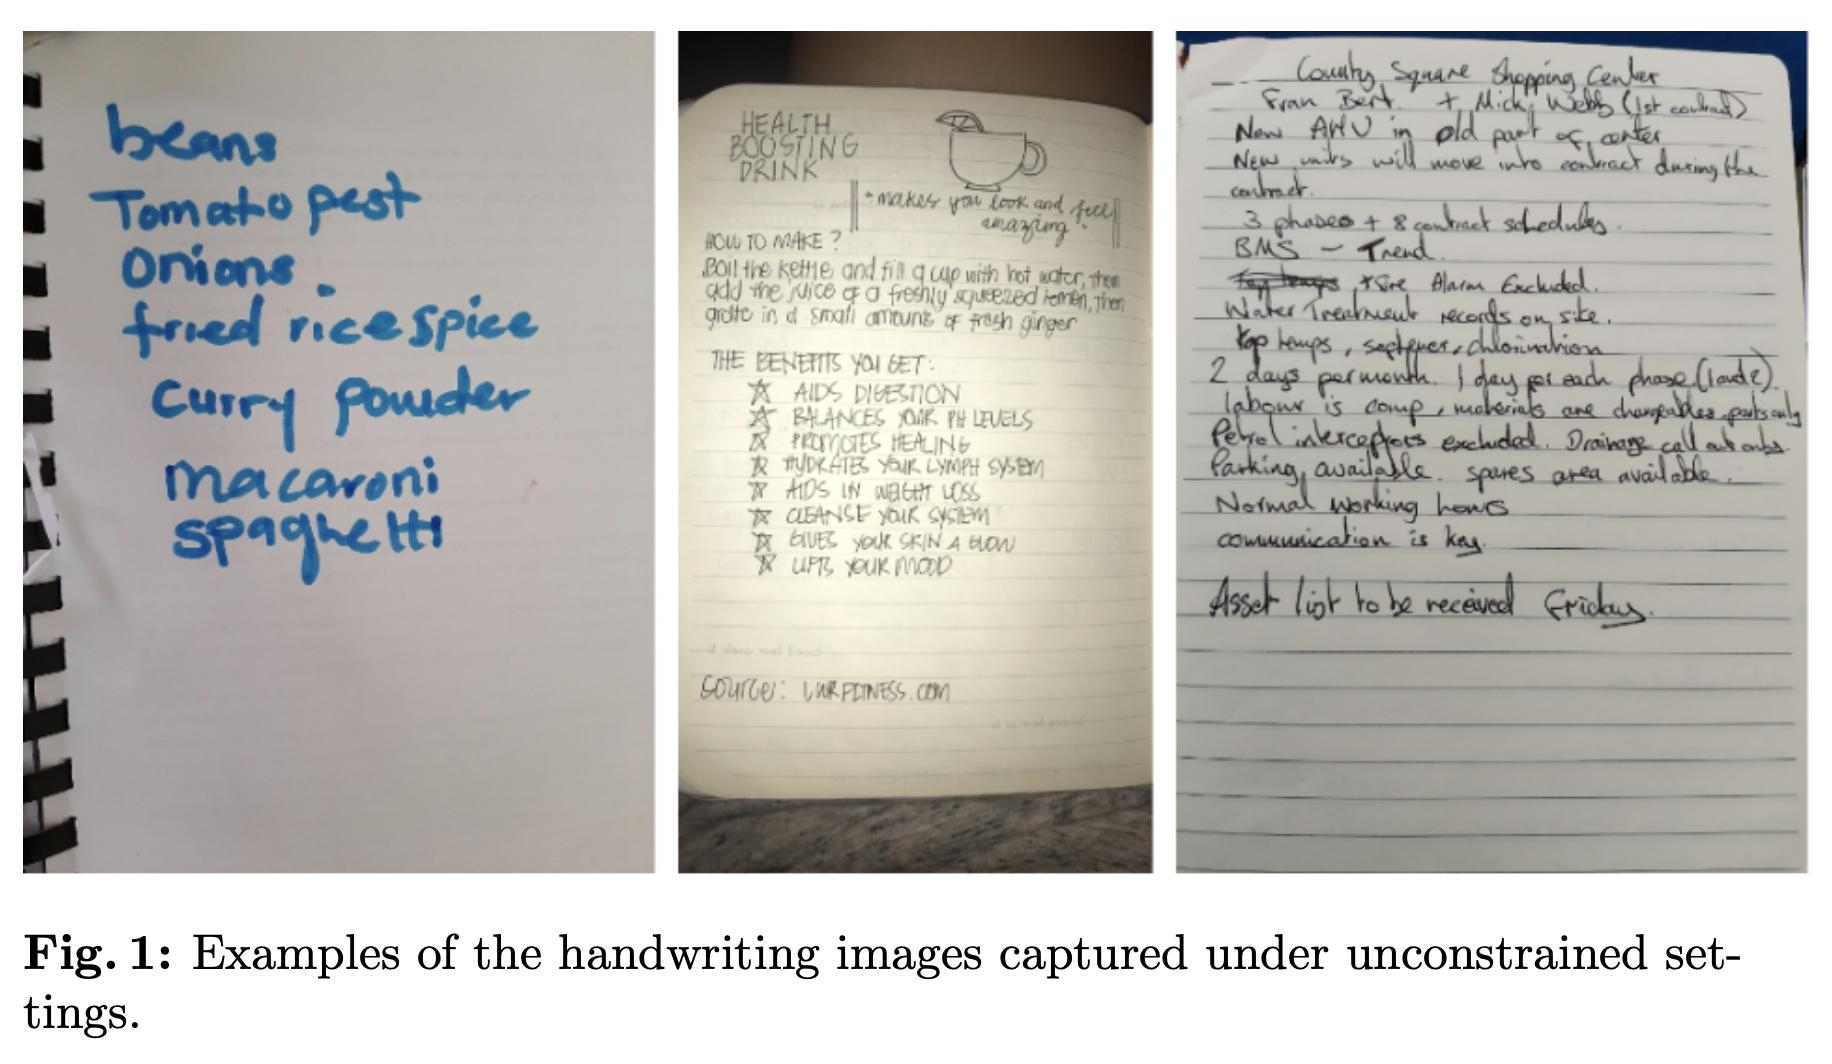text: (16, 930, 1752, 983), (147, 358, 536, 459), (116, 279, 543, 365), (1205, 345, 1776, 400), (1203, 569, 1657, 638), (1203, 445, 1728, 498), (1218, 385, 1807, 432), (84, 165, 427, 242), (168, 503, 447, 593), (1210, 417, 1789, 459), (1228, 143, 1769, 185), (1258, 81, 1750, 127), (1291, 47, 1661, 96), (158, 448, 442, 510), (1228, 326, 1608, 370), (1242, 196, 1610, 242), (699, 301, 1084, 343), (699, 253, 1132, 290), (1222, 291, 1603, 332), (1232, 111, 1666, 147), (1210, 480, 1515, 528), (1231, 262, 1591, 303), (1212, 513, 1491, 565), (700, 279, 1139, 312), (100, 95, 281, 175), (115, 238, 338, 300), (696, 665, 953, 712), (781, 450, 1052, 484), (862, 189, 1117, 223), (785, 400, 1037, 434), (1231, 232, 1438, 270), (705, 347, 937, 379), (781, 528, 1022, 556), (781, 502, 996, 532), (18, 992, 142, 1041), (786, 550, 958, 584), (789, 427, 976, 457), (776, 479, 986, 503), (786, 379, 965, 407), (725, 130, 863, 165), (701, 227, 844, 258), (980, 213, 1069, 247), (1227, 170, 1312, 205), (737, 109, 837, 138), (733, 157, 822, 189)
